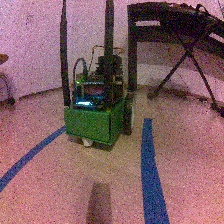rob: (62, 53, 135, 148)
